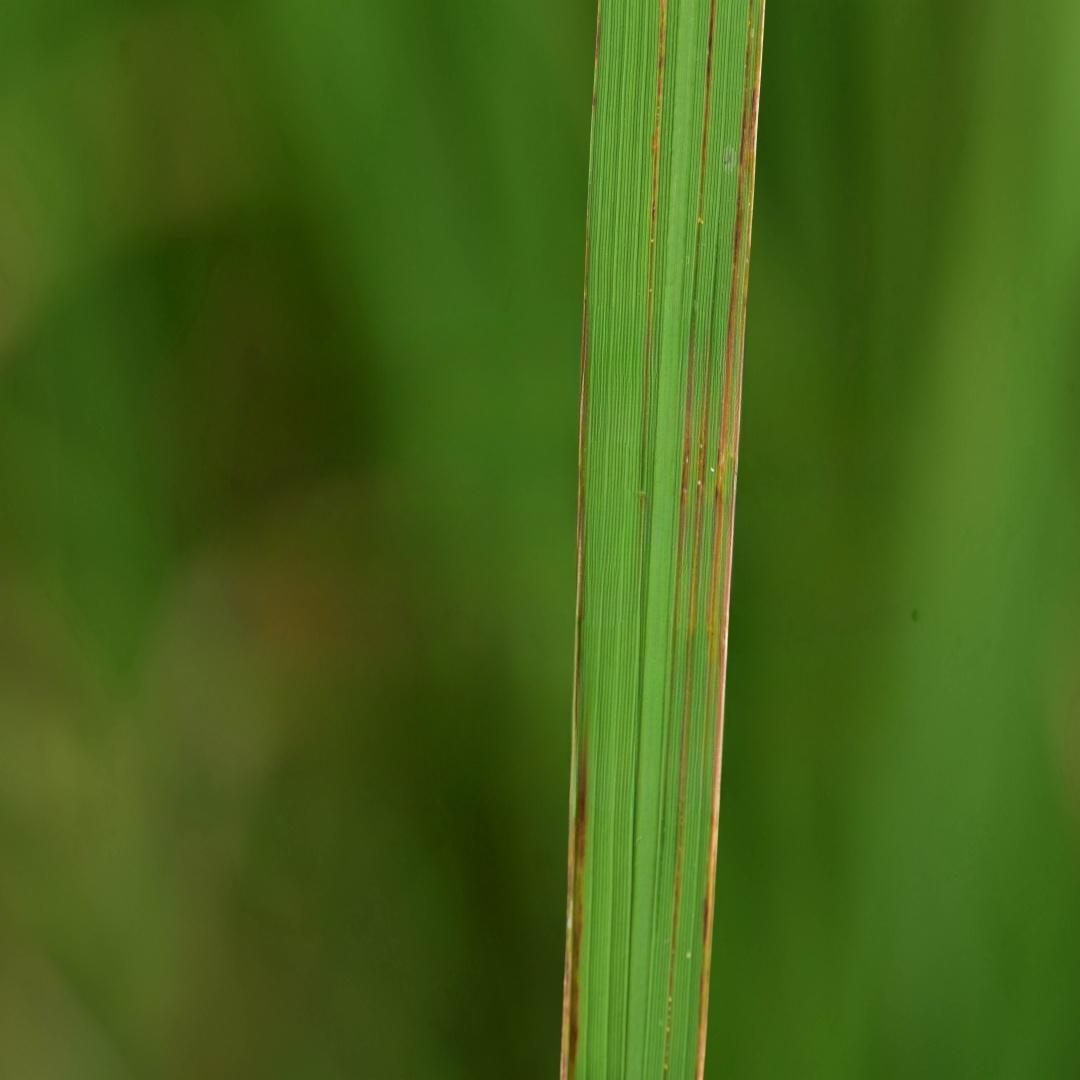BLS: (696, 0, 766, 1079), (663, 255, 717, 1078), (642, 0, 668, 423), (562, 723, 588, 1079), (694, 0, 717, 301), (577, 215, 589, 743), (676, 336, 695, 622)
LEAF: (560, 0, 766, 1079)
